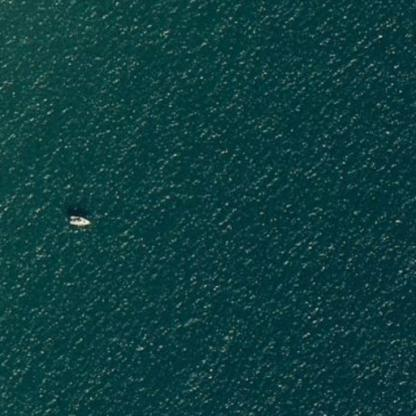ship: (65, 214, 90, 226)
